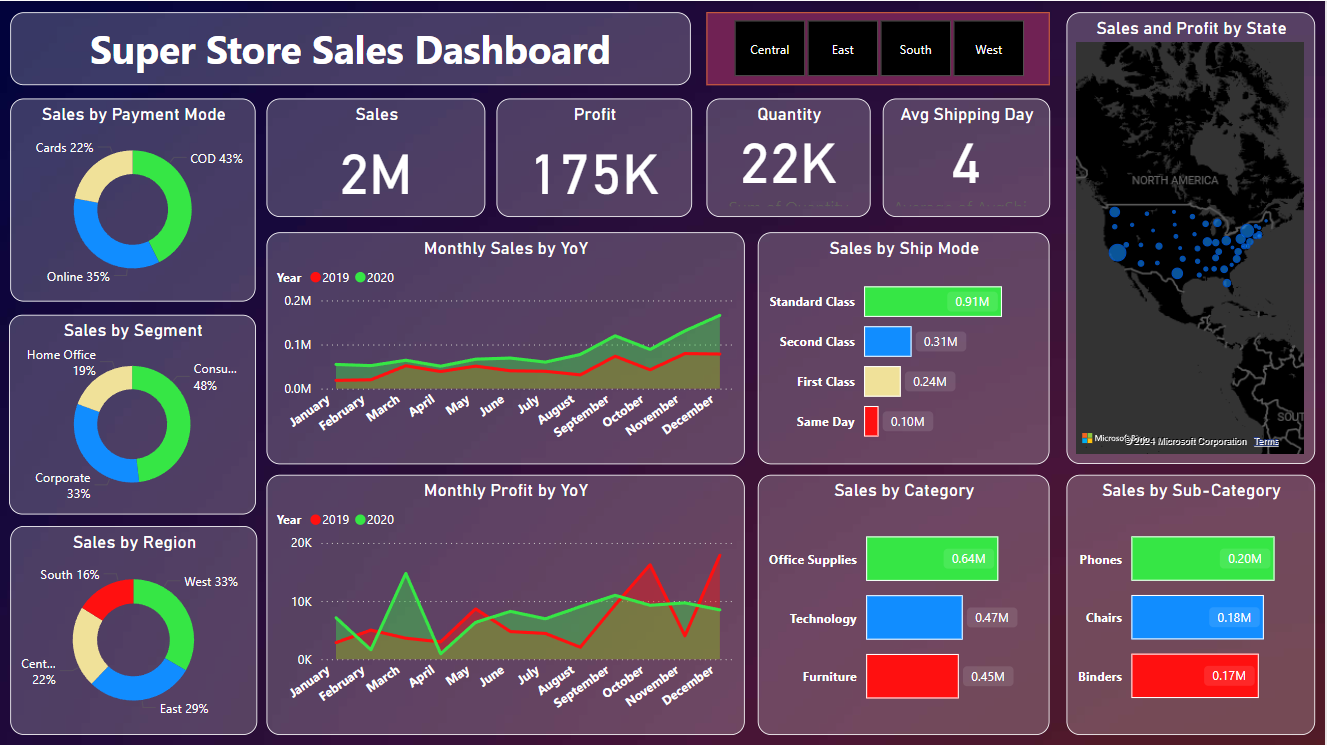

The dashboard page shown, as its layout file describes it:
{"tool":"powerbi","page":{"name":"SuperStore Sales Dashboard","canvas":[1280,720],"ordinal":0},"visuals":[{"type":"clusteredBarChart","title":"Sales by Category","fields":{"Category":["SuperStore_Sales_Dataset.Category"],"Y":["Sum(SuperStore_Sales_Dataset.Sales)"]},"box":[732.9,457.1,281.4,251.4],"z":0},{"type":"clusteredBarChart","title":"Sales by Sub-Category","fields":{"Y":["Sum(SuperStore_Sales_Dataset.Sales)"],"Category":["SuperStore_Sales_Dataset.Sub-Category"]},"box":[1030,457.1,250,251.4],"z":1000},{"type":"clusteredBarChart","title":"Sales by Ship Mode","fields":{"Y":["Sum(SuperStore_Sales_Dataset.Sales)"],"Category":["SuperStore_Sales_Dataset.Ship Mode"]},"box":[732.9,222.9,281.4,224.3],"z":2000},{"type":"areaChart","title":"Monthly Sales by YoY","fields":{"Series":["SuperStore_Sales_Dataset.Order Date.Variation.Date Hierarchy.Year"],"Y":["Sum(SuperStore_Sales_Dataset.Sales)"],"Category":["SuperStore_Sales_Dataset.Order Date.Variation.Date Hierarchy.Month","SuperStore_Sales_Dataset.Order Date.Variation.Date Hierarchy.Day"]},"box":[258.6,222.9,461.4,224.3],"z":3000},{"type":"areaChart","title":"Monthly Profit by YoY","fields":{"Series":["SuperStore_Sales_Dataset.Order Date.Variation.Date Hierarchy.Year"],"Category":["SuperStore_Sales_Dataset.Order Date.Variation.Date Hierarchy.Month","SuperStore_Sales_Dataset.Order Date.Variation.Date Hierarchy.Day"],"Y":["Sum(SuperStore_Sales_Dataset.Profit)"]},"box":[258.6,457.1,461.4,251.4],"z":4000},{"type":"map","title":" Sales and Profit by State","fields":{"Category":["SuperStore_Sales_Dataset.State"],"Size":["Sum(SuperStore_Sales_Dataset.Sales)"]},"box":[1030,11.4,240,435.7],"z":5000},{"type":"donutChart","title":"Sales by Region","fields":{"Category":["SuperStore_Sales_Dataset.Region"],"Y":["Sum(SuperStore_Sales_Dataset.Sales)"]},"box":[11.4,507.1,238.6,201.4],"z":6000},{"type":"donutChart","title":"Sales by Segment","fields":{"Category":["SuperStore_Sales_Dataset.Segment"],"Y":["Sum(SuperStore_Sales_Dataset.Sales)"]},"box":[10,302.9,238.6,192.9],"z":7000},{"type":"slicer","fields":{"Values":["SuperStore_Sales_Dataset.Region"]},"box":[682.9,11.4,331.4,70],"z":8000},{"type":"donutChart","title":"Sales by Payment Mode","fields":{"Category":["SuperStore_Sales_Dataset.Payment Mode"],"Y":["Sum(SuperStore_Sales_Dataset.Sales)"]},"box":[11.4,94.3,237.1,195.7],"z":9000},{"type":"card","title":"Sales","fields":{"Values":["Sum(SuperStore_Sales_Dataset.Sales)"]},"box":[258.6,94.3,211.4,114.3],"z":10000},{"type":"card","title":"Quantity","fields":{"Values":["Sum(SuperStore_Sales_Dataset.Quantity)"]},"box":[682.9,94.3,158.6,114.3],"z":11000},{"type":"card","title":"Profit","fields":{"Values":["Sum(SuperStore_Sales_Dataset.Profit)"]},"box":[480,94.3,188.6,114.3],"z":12000},{"type":"card","title":"Avg Shipping Day","fields":{"Values":["Avg(SuperStore_Sales_Dataset.AvgShipDate)"]},"box":[852.9,94.3,161.4,114.3],"z":13000},{"type":"textbox","box":[11.4,11.4,657.1,70],"z":14000}]}

Visuals, with their boxes in screenshot pixels (x1, y1, x2, y2), scaled from the page's 1280x720 canvas onto the 1327x745 screenshot:
"Sales by Category" clusteredBarChart: bbox(760, 473, 1052, 733)
"Sales by Sub-Category" clusteredBarChart: bbox(1068, 473, 1326, 733)
"Sales by Ship Mode" clusteredBarChart: bbox(760, 231, 1052, 463)
"Monthly Sales by YoY" areaChart: bbox(268, 231, 746, 463)
"Monthly Profit by YoY" areaChart: bbox(268, 473, 746, 733)
" Sales and Profit by State" map: bbox(1068, 12, 1317, 463)
"Sales by Region" donutChart: bbox(12, 525, 259, 733)
"Sales by Segment" donutChart: bbox(10, 313, 258, 513)
slicer - SuperStore_Sales_Dataset.Region: bbox(708, 12, 1052, 84)
"Sales by Payment Mode" donutChart: bbox(12, 98, 258, 300)
"Sales" card: bbox(268, 98, 487, 216)
"Quantity" card: bbox(708, 98, 872, 216)
"Profit" card: bbox(498, 98, 693, 216)
"Avg Shipping Day" card: bbox(884, 98, 1052, 216)
textbox: bbox(12, 12, 693, 84)
